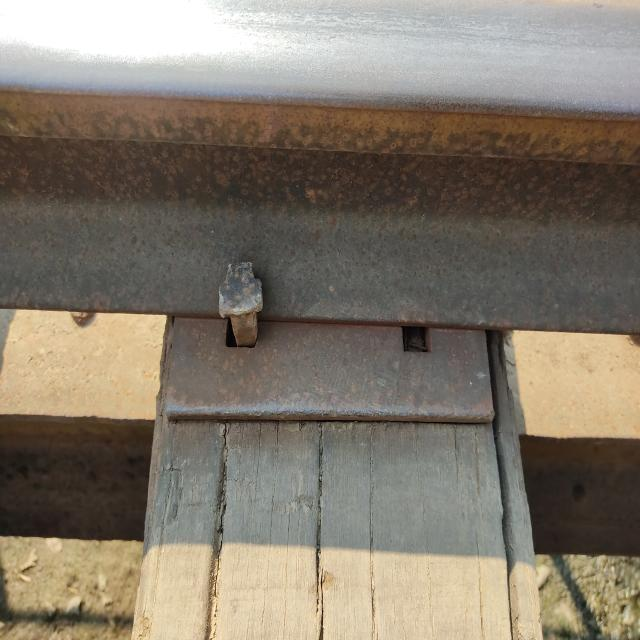fault: (396, 292, 438, 368)
